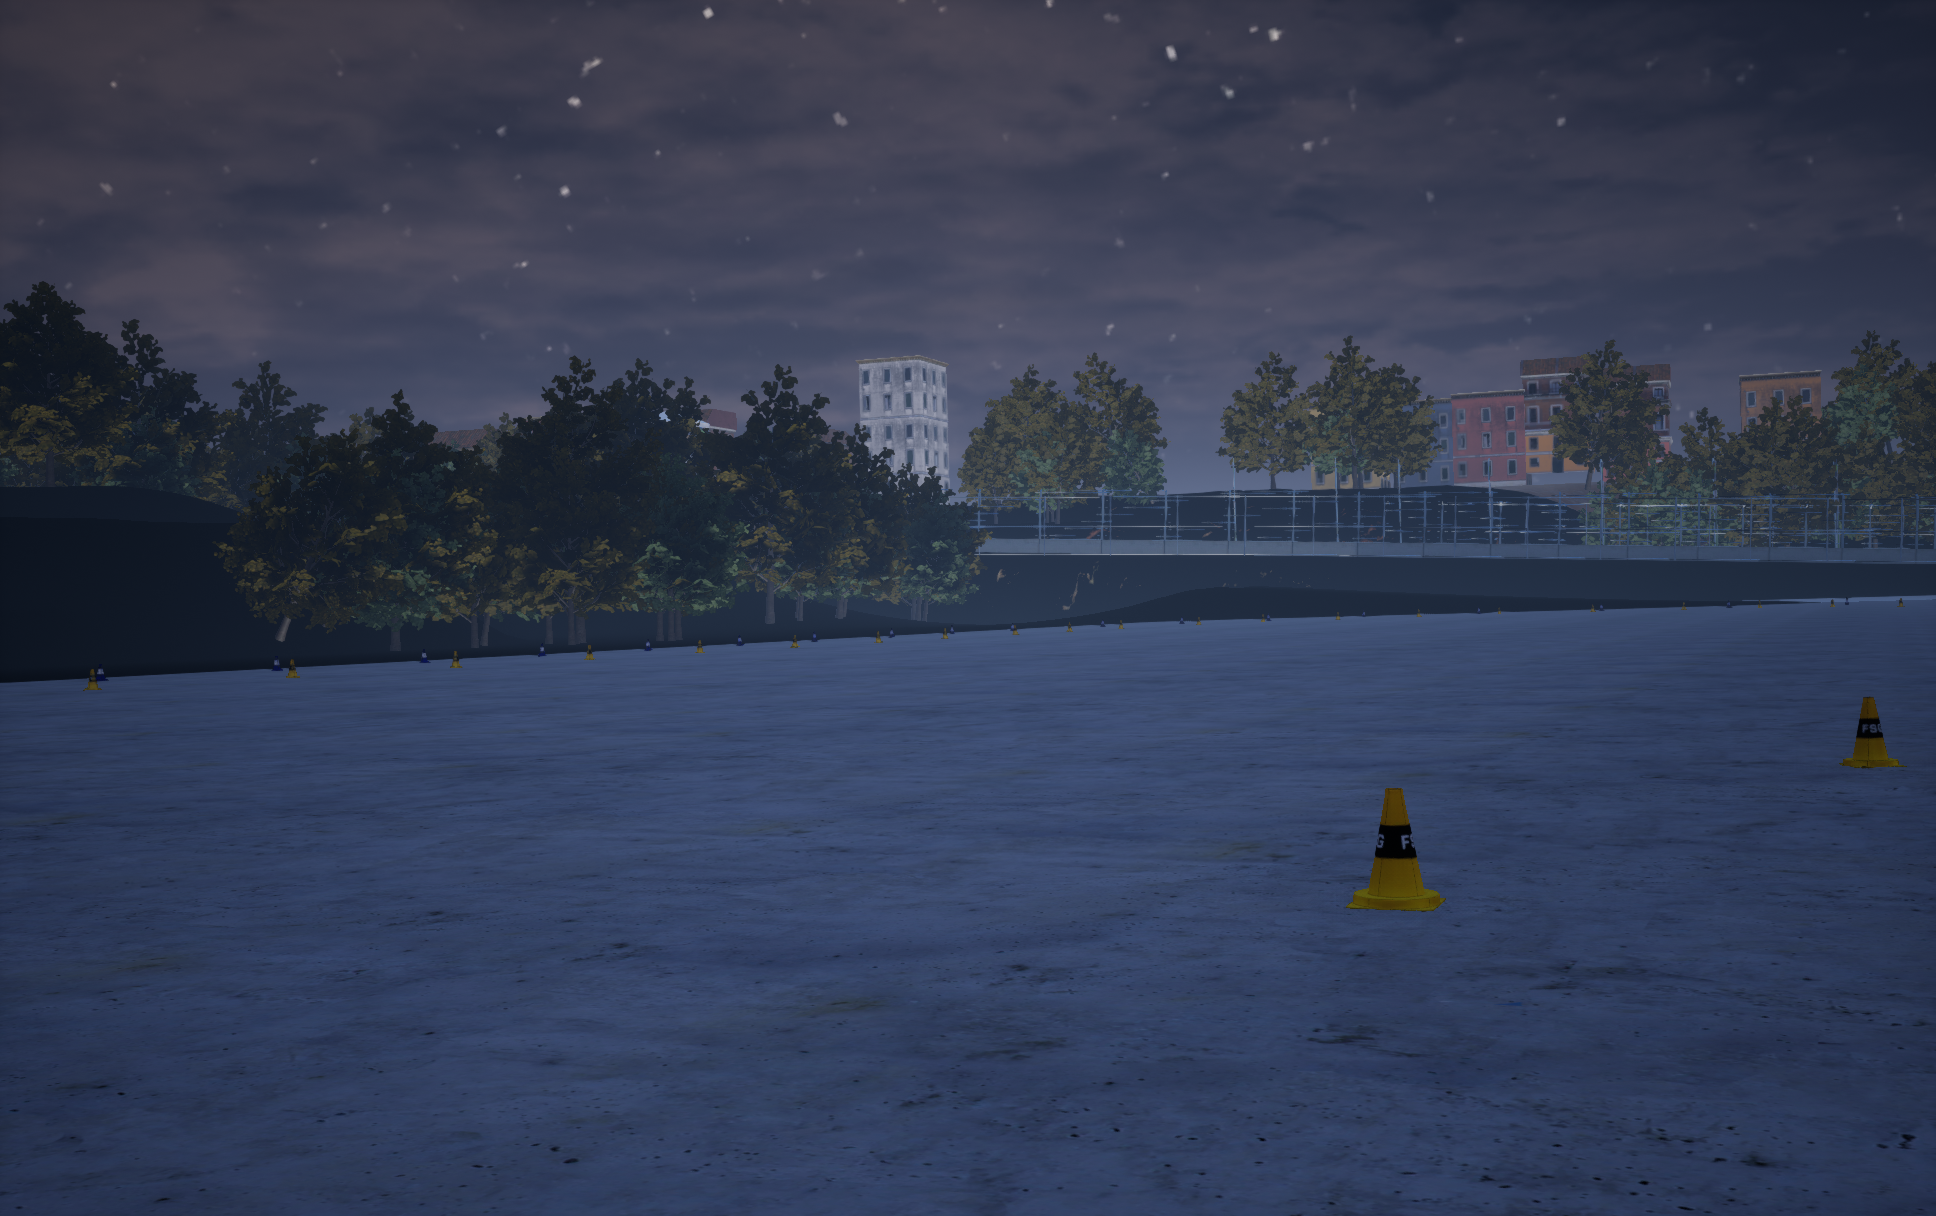blue: (1346, 787, 1446, 911), (1839, 698, 1907, 766), (83, 670, 101, 691)
